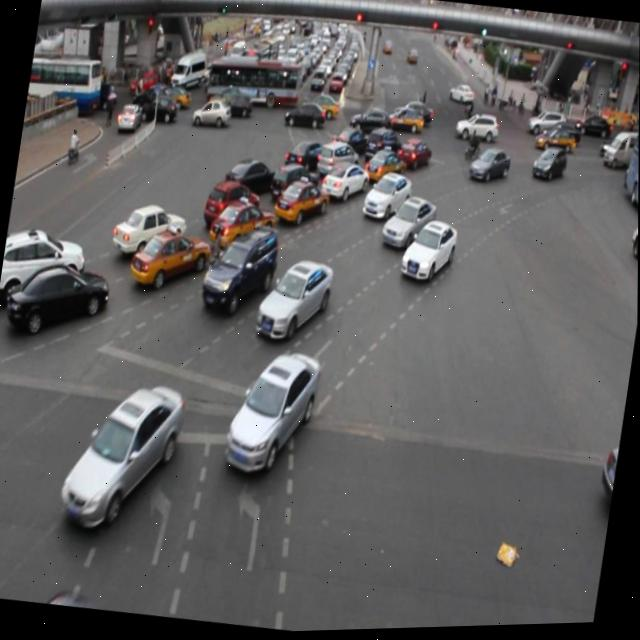car: (62, 375, 187, 534), (223, 344, 322, 481), (4, 253, 112, 341), (200, 220, 280, 319), (255, 256, 335, 346), (0, 226, 88, 304), (128, 225, 212, 296), (111, 199, 190, 263), (205, 199, 276, 261), (398, 219, 459, 287), (379, 192, 438, 255), (272, 178, 330, 232), (203, 180, 262, 232), (361, 168, 412, 228), (23, 586, 120, 614), (318, 160, 371, 209), (268, 161, 321, 209), (224, 156, 274, 202), (361, 146, 408, 189), (281, 135, 327, 178), (598, 441, 621, 521), (529, 144, 568, 190), (467, 147, 509, 189), (362, 125, 402, 169), (394, 136, 434, 177), (332, 124, 370, 162)
truck: (315, 139, 360, 183)
